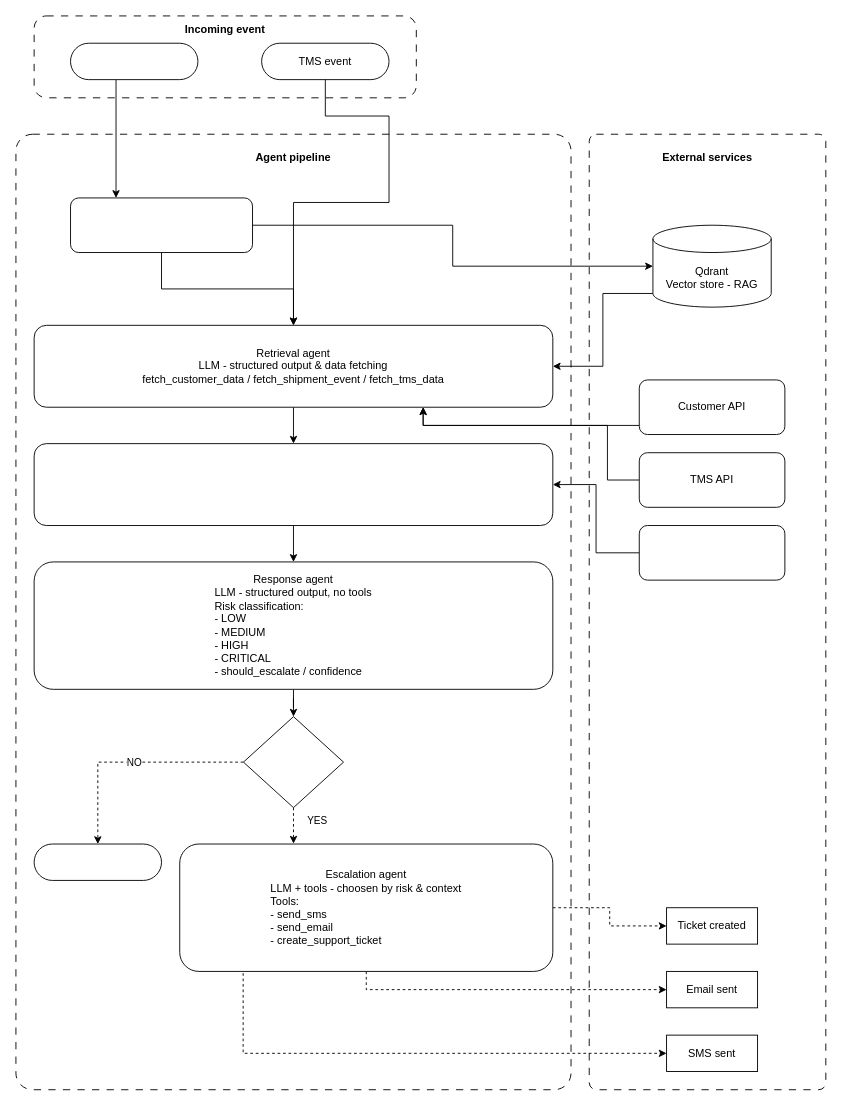
The diagram is 842 pixels wide and 1106 high, and some of its shapes have lost their labels. Here are the shapes that lost their labels. From the top down, the centre of each, then its label:
the point at 134,61: email / sms / call
the point at 161,225: Ingestion step embed -> Qdrant -> trigger pipeline
the point at 293,484: Analysis agent LLM + tools - chosen based on context Tools: - check_weather
the point at 711,552: Weather API
the point at 293,762: escalate ?
the point at 97,861: No escalation
